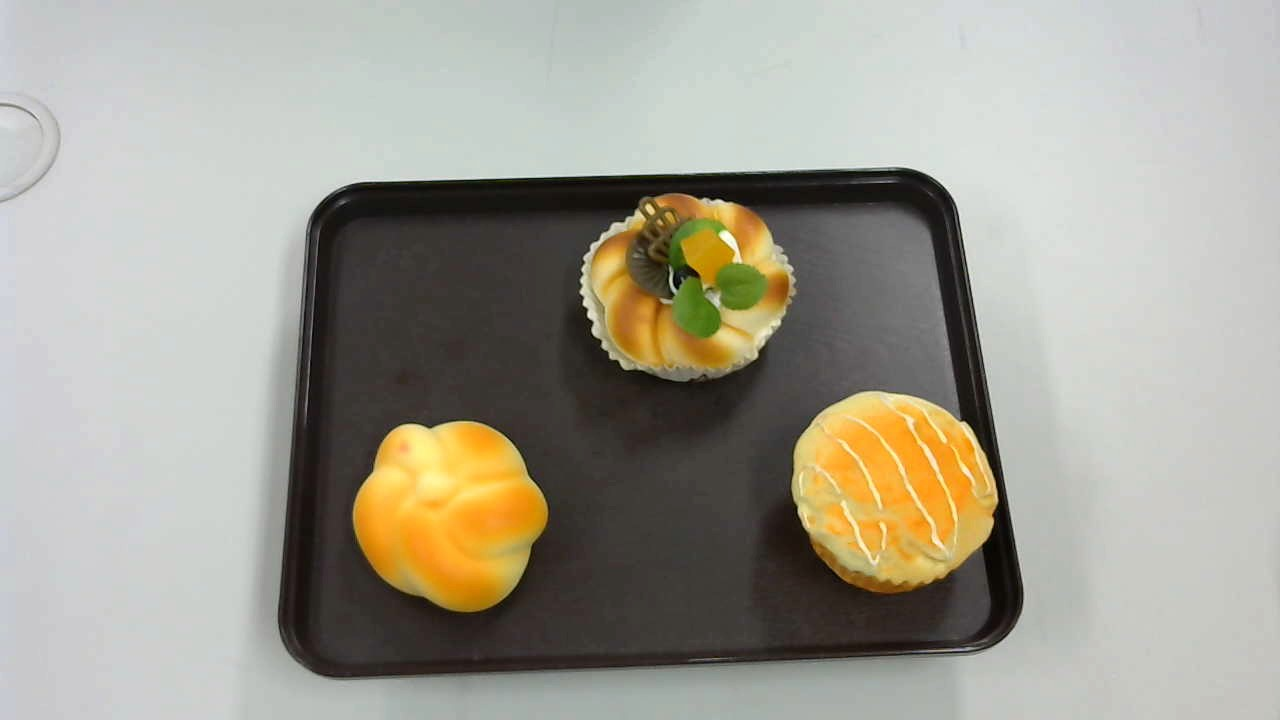croissant: (351, 419, 548, 614)
cupcake: (791, 389, 1000, 597)
fruit tart: (580, 189, 797, 384)
